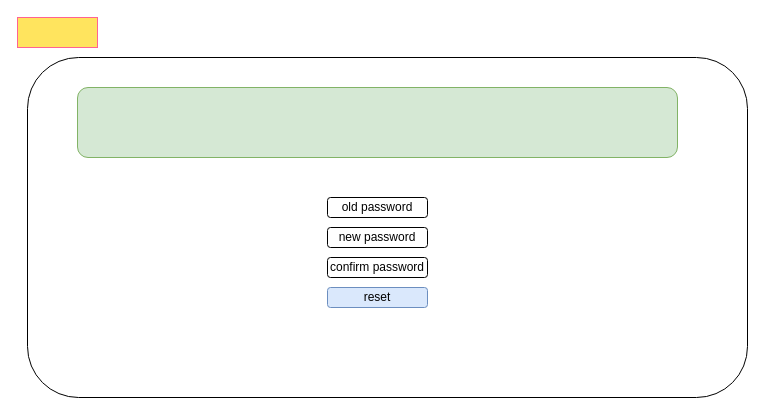
The diagram is 765 pixels wide and 415 high, and some of its shapes have lost their labels. The shapes that lost their labels are listed below. From the top down, each one's centre as x and y in pixels, then its label:
At point 57,32: "Reset password".
At point 377,122: "Banner".
